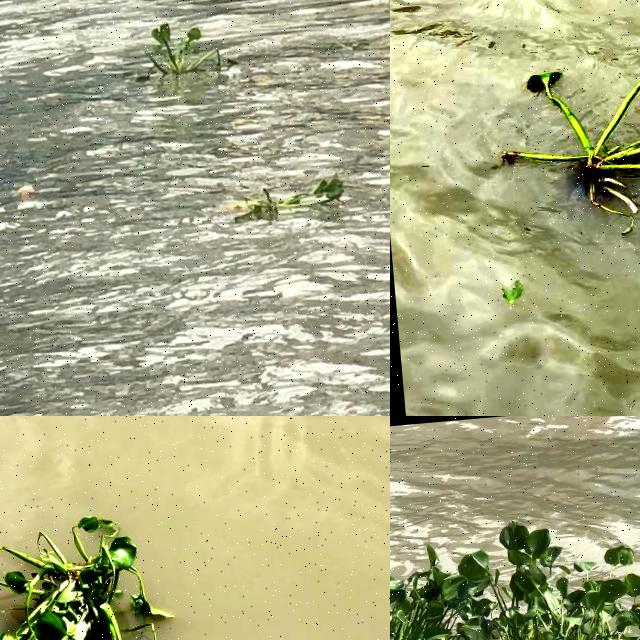water-hyacinth: (391, 498, 640, 640), (486, 30, 640, 232), (1, 504, 171, 640), (224, 176, 345, 228), (141, 18, 230, 83)
